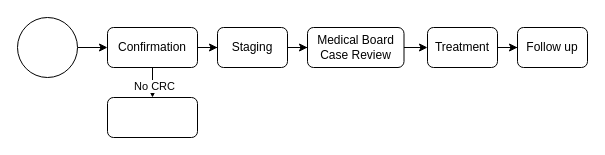
The diagram is 605 pixels wide and 155 high, and some of its shapes have lost their labels. The box of each missing label's shape, as (x1, y1, x2, y2) in pixels:
Dismissed: (106, 96, 198, 138)
New Patient: (16, 16, 78, 78)
